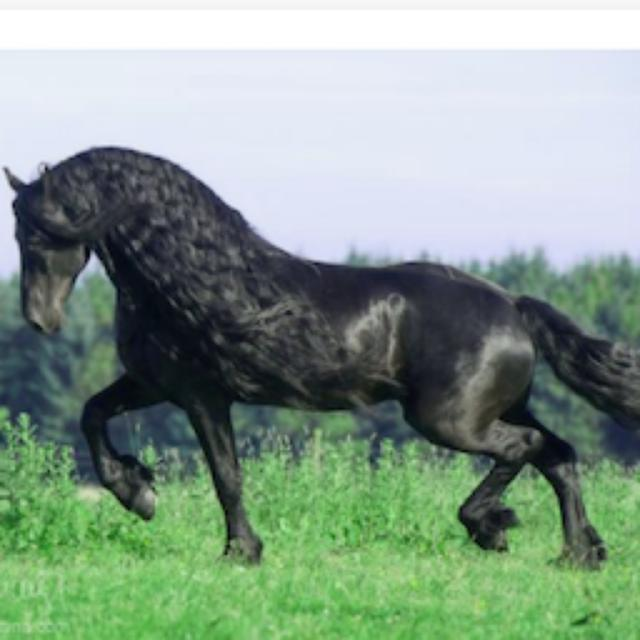Horse: (0, 137, 638, 575)
